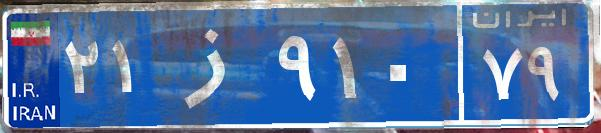0: (385, 28, 445, 110)
1: (330, 28, 385, 110), (110, 28, 158, 105)
2: (57, 26, 110, 107)
7: (475, 38, 525, 113)
9: (273, 28, 330, 110), (525, 38, 570, 115)
ز: (158, 15, 273, 115)
